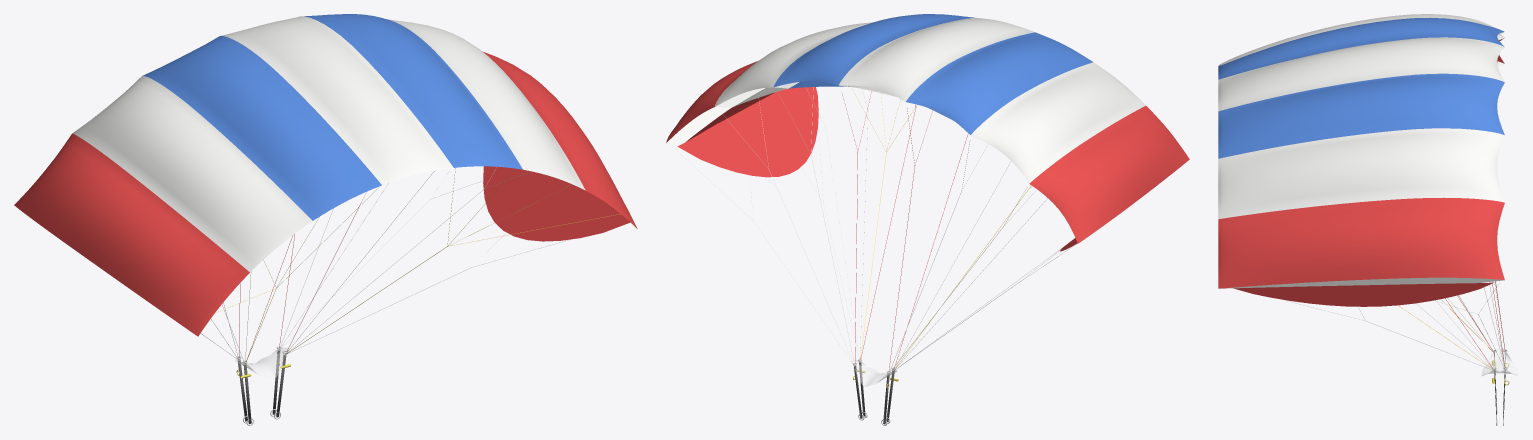
The model's file is PD_Lightning_160.glb.
3 renders of one model, left to right at view 1: azimuth 30°, elevation 25°; view 2: azimuth 150°, elevation 25°; view 3: azimuth 270°, elevation 25°, orthographic. The views are drawn at different scales.
Visible parts, largest first — view 1: TopSkin, Stabilizers, Lines, Risers, SteeringLines, Slider; view 2: TopSkin, Stabilizers, Lines, Ribs, BottomSkin, Risers, Slider, SteeringLines; view 3: TopSkin, Stabilizers, Ribs, Lines, Slider.
Boxes of the visible parts, bbox=[...] form: TopSkin: bbox=[14, 14, 637, 336]; Stabilizers: bbox=[483, 166, 630, 241]; Lines: bbox=[200, 167, 567, 364]; Risers: bbox=[236, 349, 290, 425]; SteeringLines: bbox=[216, 168, 620, 374]; Slider: bbox=[235, 346, 289, 379]; TopSkin: bbox=[666, 14, 1189, 243]; Stabilizers: bbox=[677, 87, 1077, 251]; Lines: bbox=[675, 87, 1073, 374]; Ribs: bbox=[666, 44, 1049, 143]; BottomSkin: bbox=[686, 81, 951, 141]; Risers: bbox=[853, 360, 898, 425]; Slider: bbox=[851, 359, 897, 386]; SteeringLines: bbox=[852, 89, 1032, 367]; TopSkin: bbox=[1218, 14, 1504, 288]; Stabilizers: bbox=[1233, 282, 1493, 306]; Ribs: bbox=[1221, 32, 1504, 288]; Lines: bbox=[1282, 41, 1505, 370]; Slider: bbox=[1481, 347, 1518, 376].
Bounding box in the file's own units: 4.81 × 3.76 × 2.74.
